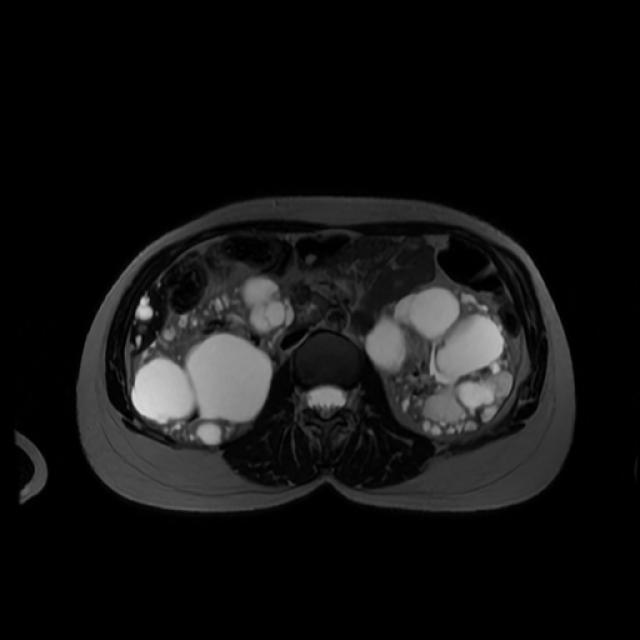sag: (132, 275, 293, 445)
sol: (364, 284, 518, 435)
